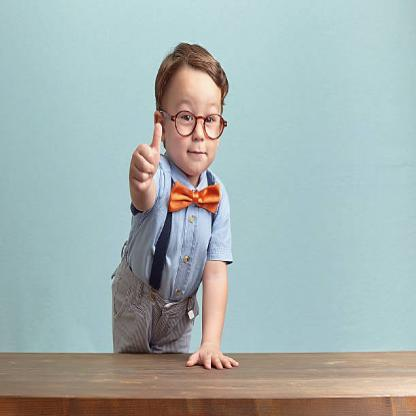thumb_up: (127, 121, 164, 197)
